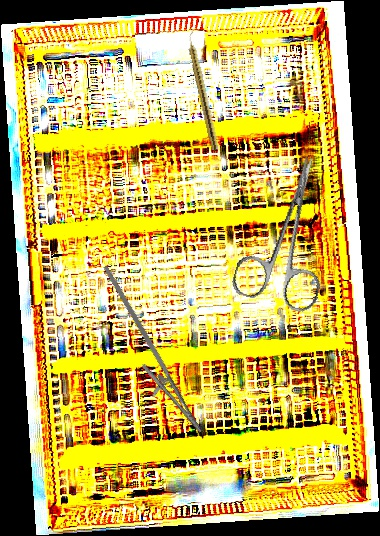Handpiece: (184, 30, 222, 152)
Iris Scissors: (229, 146, 354, 316)
Needle Holder: (72, 264, 222, 443)
